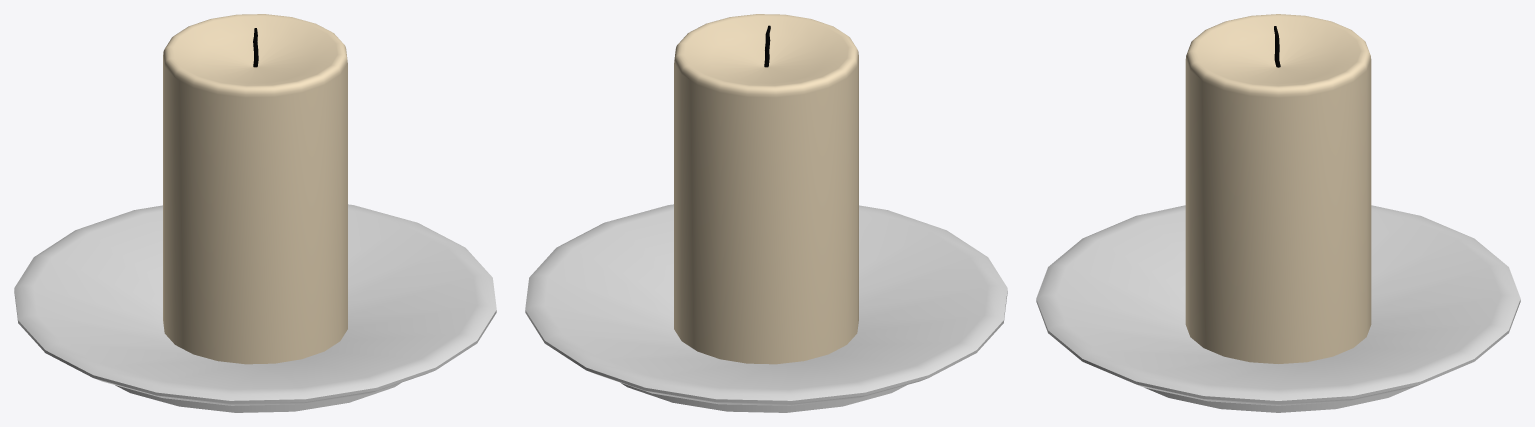
Rendered from candle_01.fbx.
The picture shows the model from 3 angles, left to right: view 1: azimuth 30°, elevation 25°; view 2: azimuth 150°, elevation 25°; view 3: azimuth 270°, elevation 25°; orthographic projection.
Visible parts, largest first — view 1: candle; view 2: candle; view 3: candle.
Boxes of the visible parts, x1,y1,x2,y2 form: candle: (14,14,496,412); candle: (525,14,1007,412); candle: (1036,14,1520,412).
Size of the model in its own units: 4.49 by 3.13 by 4.49.
